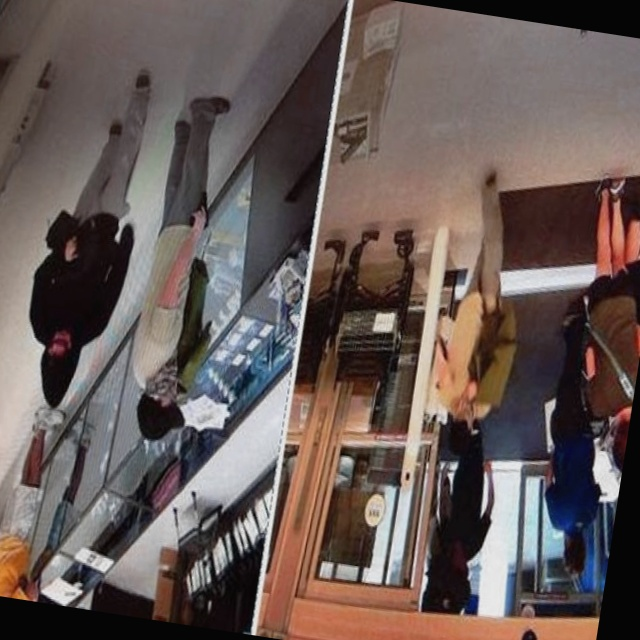gun: (181, 180, 227, 239)
